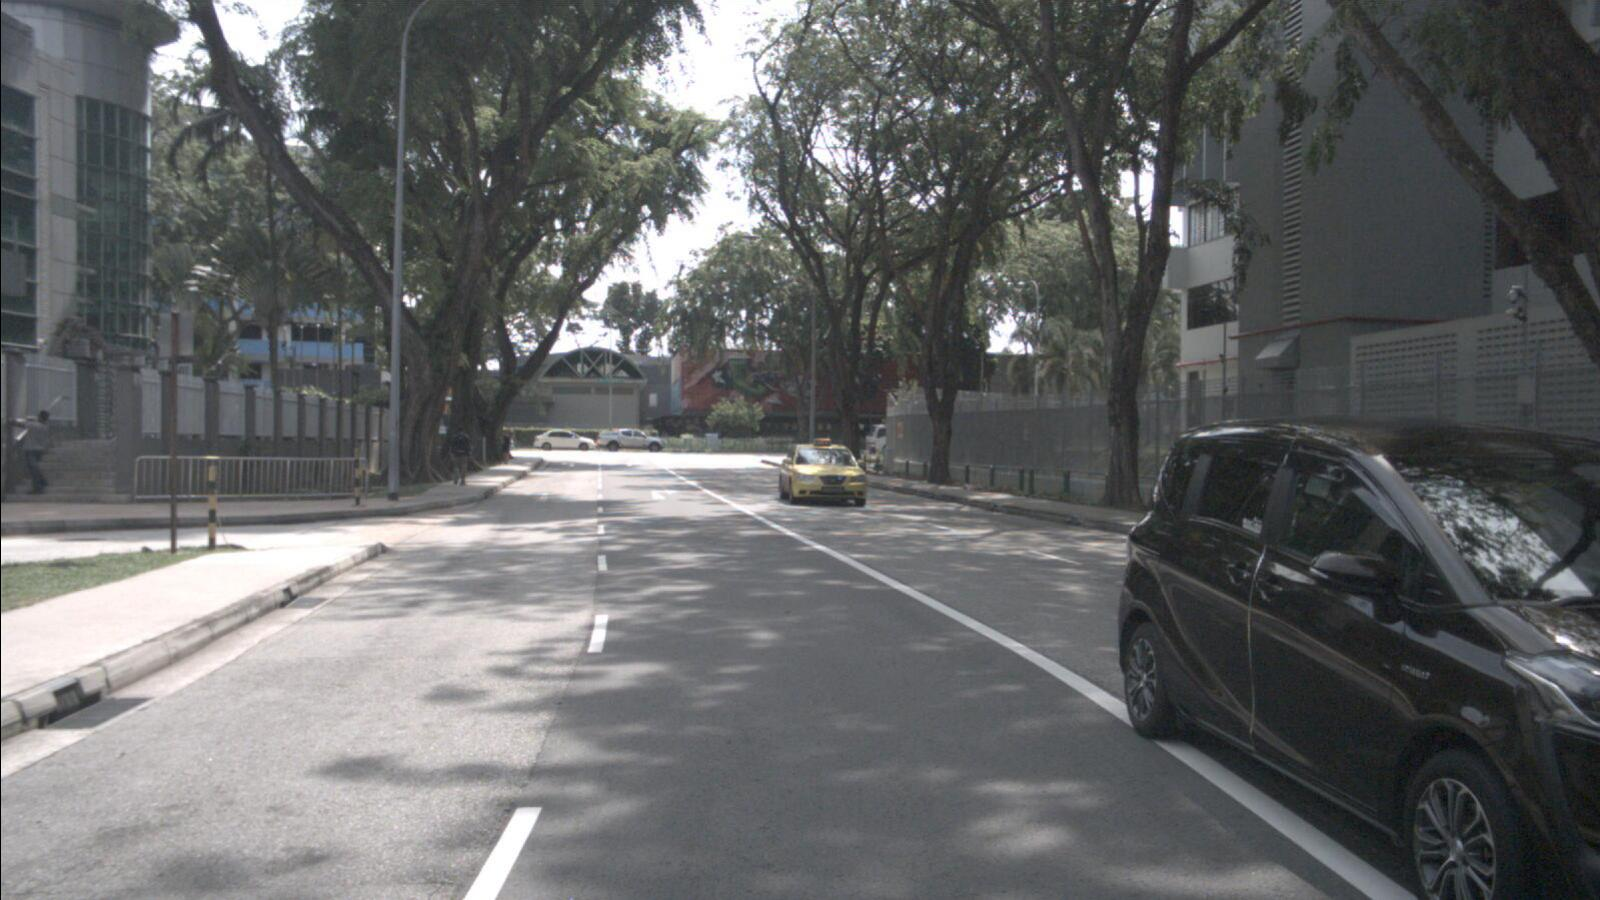human.pedestrian.adult-pedestrian.moving: (449, 425, 474, 486), (501, 429, 512, 466)
human.pedestrian.adult-pedestrian.standing: (5, 408, 52, 496)
